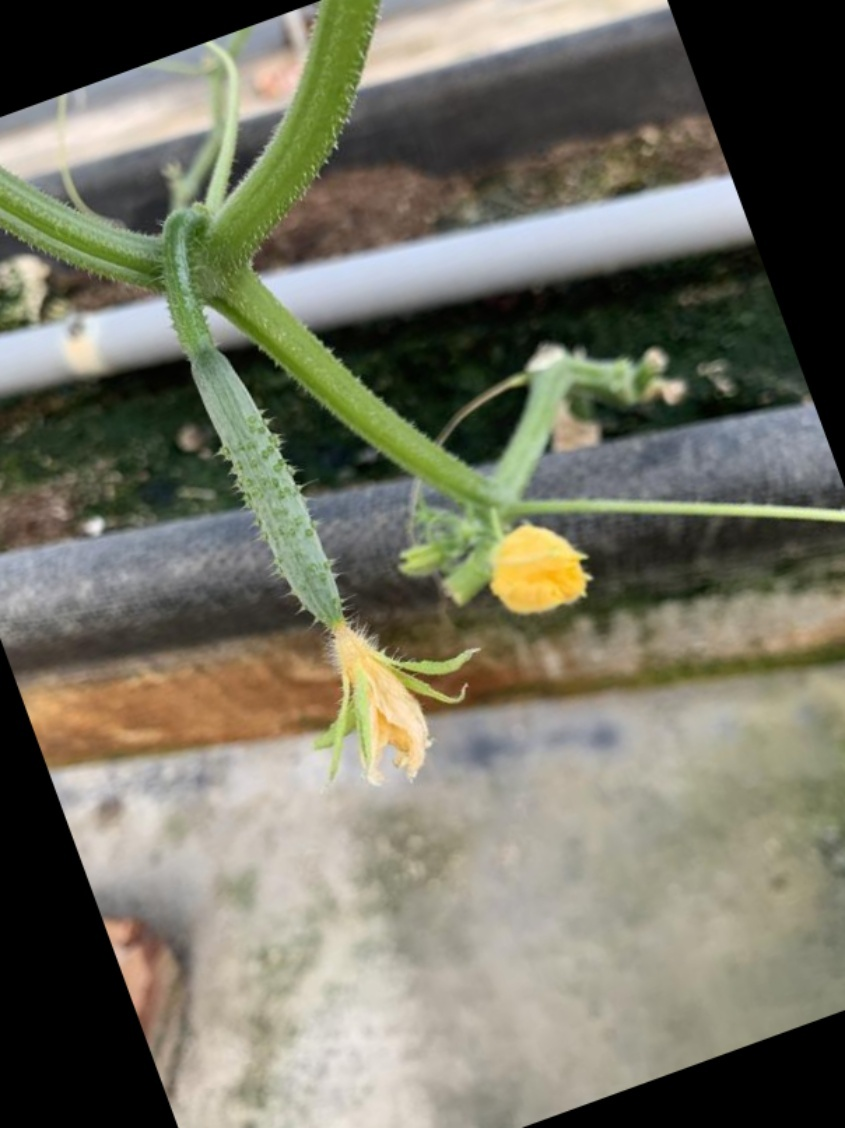bear: (144, 283, 472, 800)
